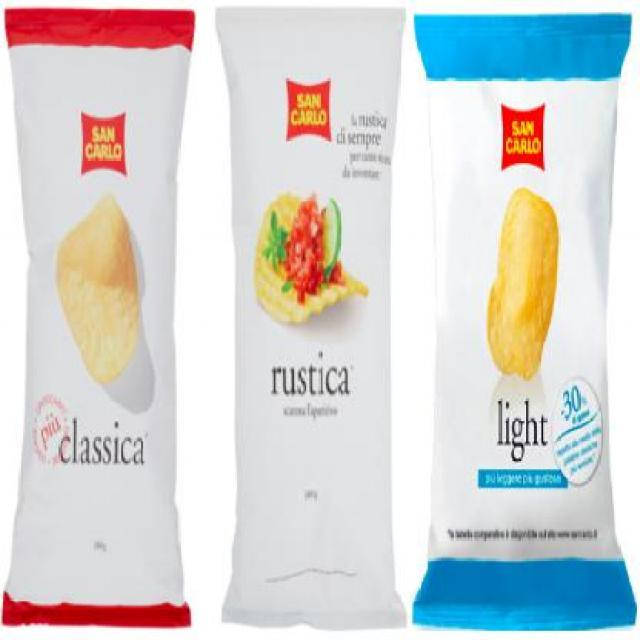Chips: (412, 19, 638, 638), (212, 4, 412, 624), (7, 11, 193, 620)
